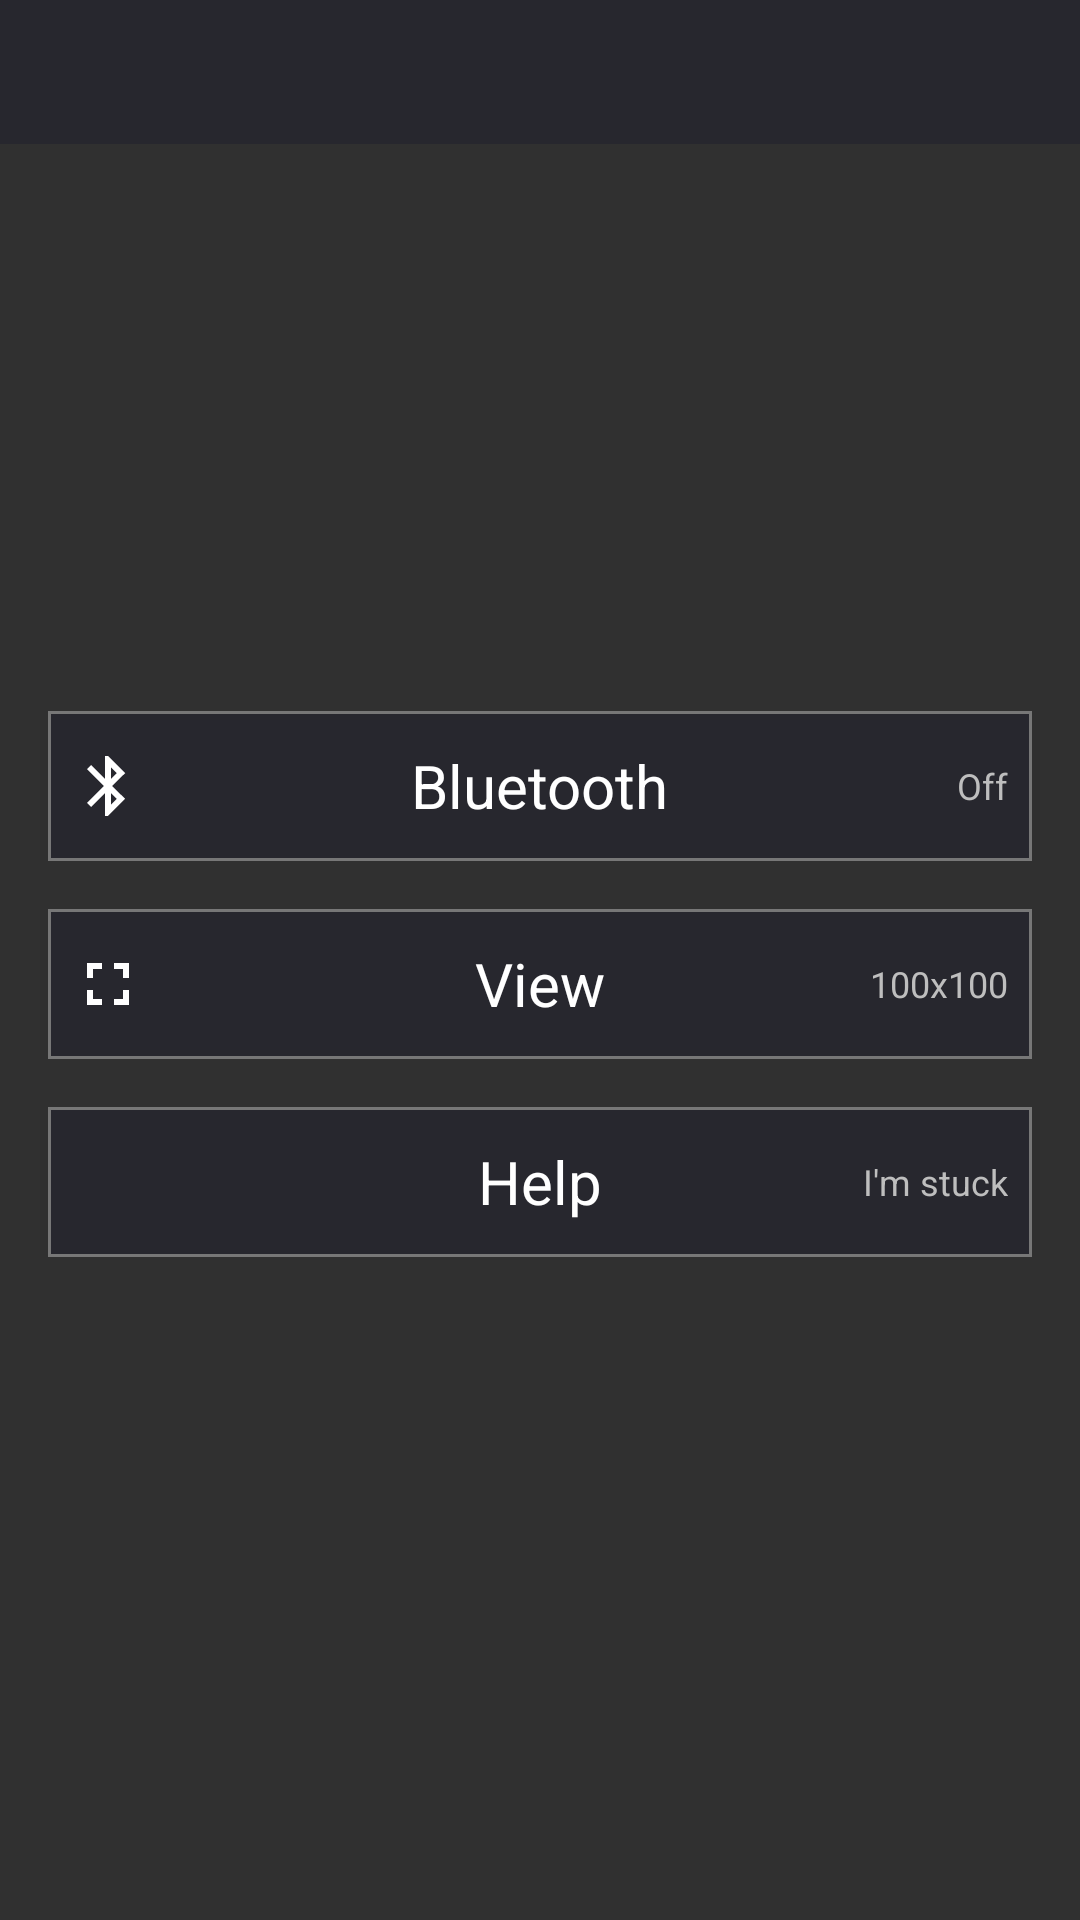

Where to tap for icons on this 1080px×1920px app screen, as point (x, y):
fullscreen: point (108, 984)
